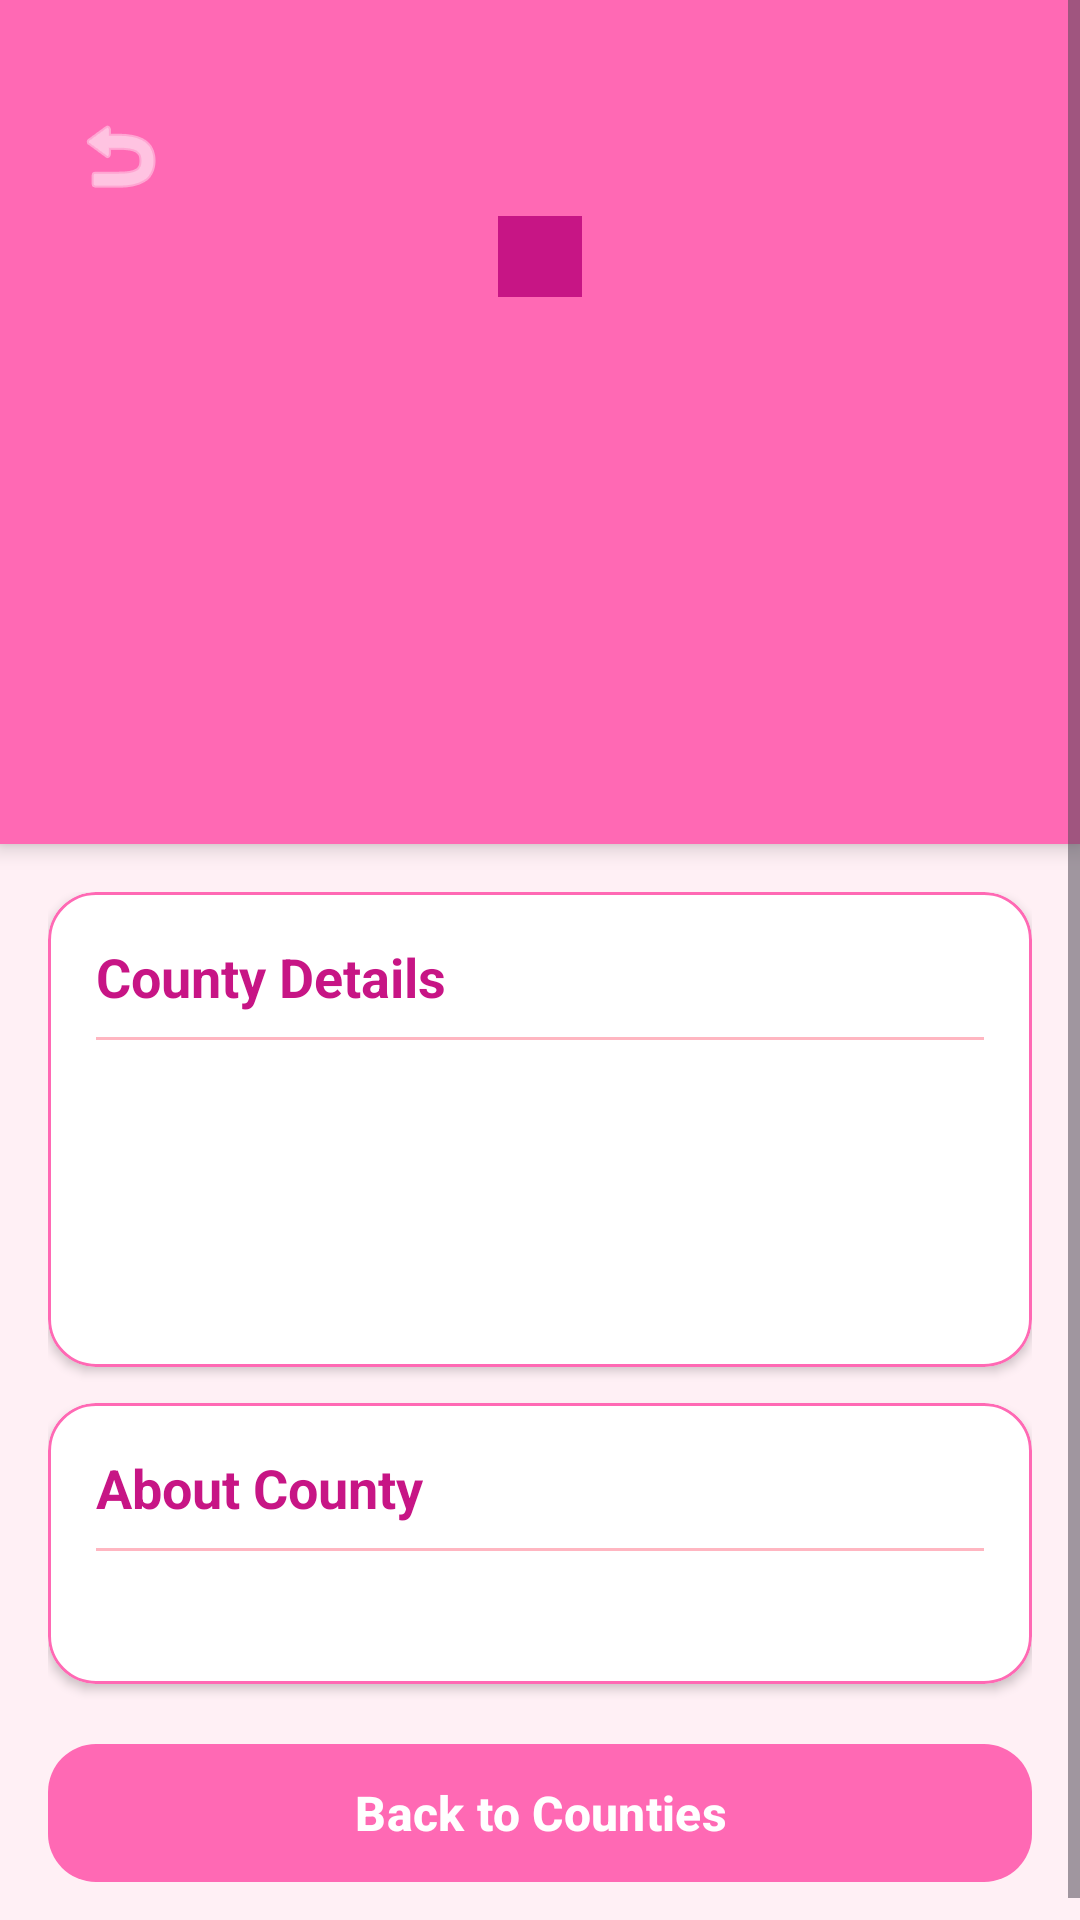

Where icons sit on this 1080x1920 app screen, as (x1, y1, x2, y2):
Back to Counties: (87, 126, 156, 188)
